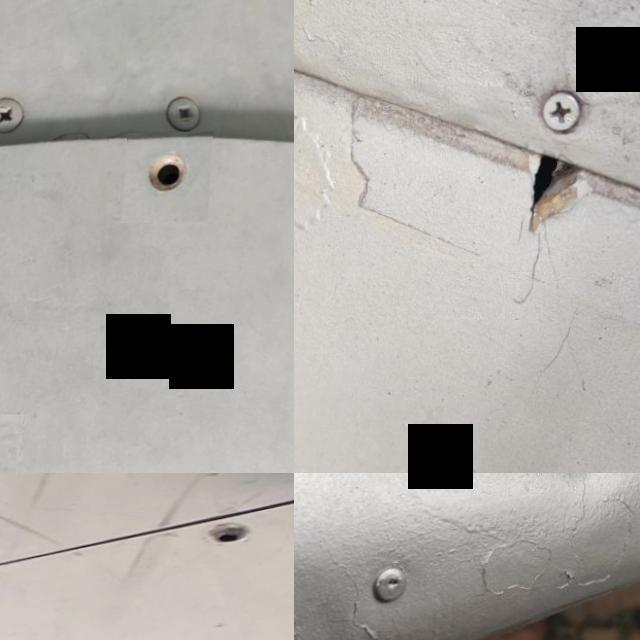Crack: (494, 133, 624, 262)
Dent: (522, 473, 640, 522)
Missing_Fastener: (126, 134, 216, 225), (0, 143, 24, 235), (207, 522, 268, 550)
